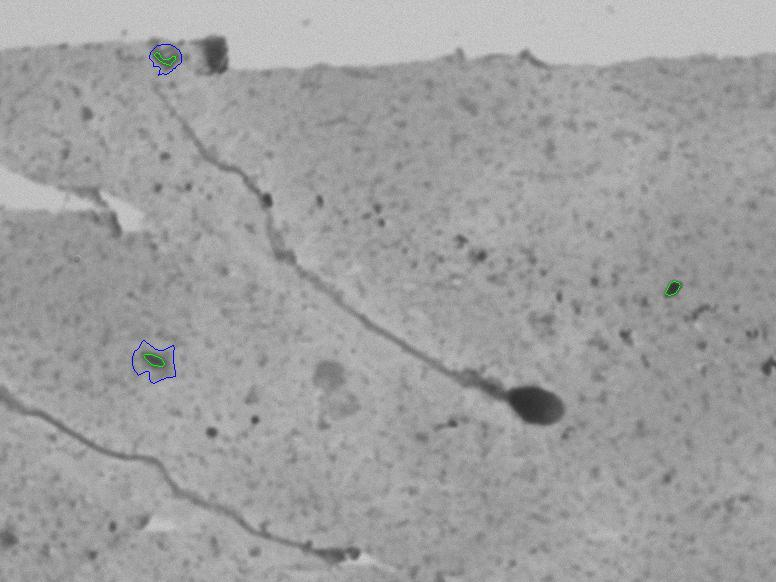Abnormal: (130, 75, 586, 435)
